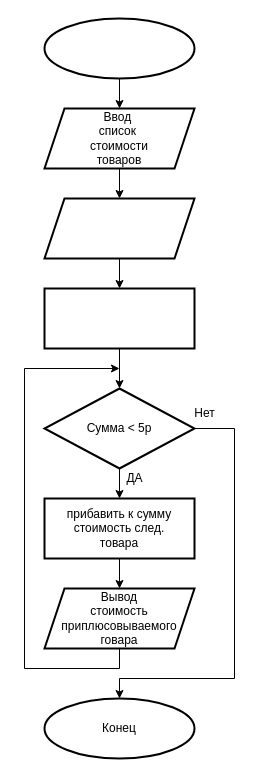
The diagram is 260 pixels wide and 776 high, and some of its shapes have lost their labels. Each missing label, with the centre of its shape:
"Вывод стоимость первого товара" belongs at (x=119, y=228).
"Начало" belongs at (x=119, y=48).
"сумма стоимости первого товара со вторым" belongs at (x=119, y=318).
